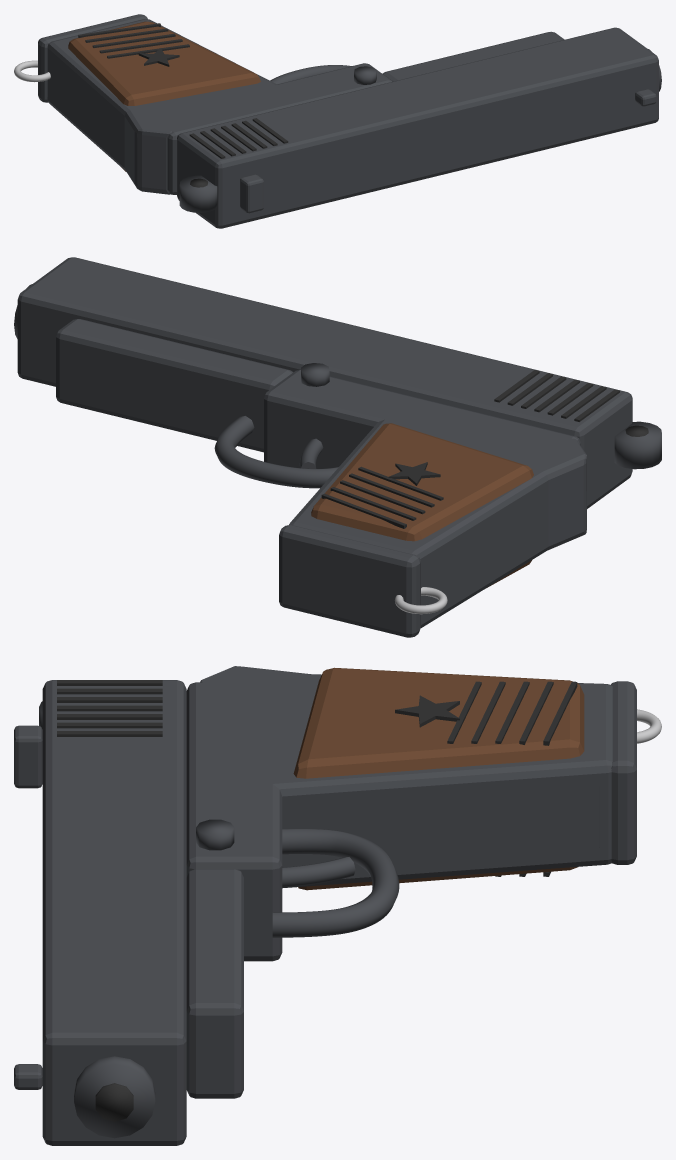
Rendered from Item_pistol_k54.fbx.
The picture shows the model from 3 angles, top to bottom: view 1: azimuth 30°, elevation 25°; view 2: azimuth 150°, elevation 25°; view 3: azimuth 270°, elevation 25°; orthographic projection. The views are drawn at different scales.
Parts seen in each view (by area): view 1: slide, model, magazine; view 2: model, slide, magazine; view 3: model, slide, magazine.
Boxes of the visible parts, left/top/right/bottom form: slide: left=177, top=27, right=661, bottom=228; model: left=14, top=19, right=564, bottom=212; magazine: left=38, top=14, right=147, bottom=102; model: left=56, top=319, right=661, bottom=627; slide: left=14, top=257, right=632, bottom=508; magazine: left=279, top=525, right=420, bottom=637; model: left=39, top=666, right=661, bottom=1098; slide: left=14, top=680, right=186, bottom=1145; magazine: left=599, top=681, right=636, bottom=864.
Bounding box in the file's own units: 0.194 × 0.032 × 0.1352.
